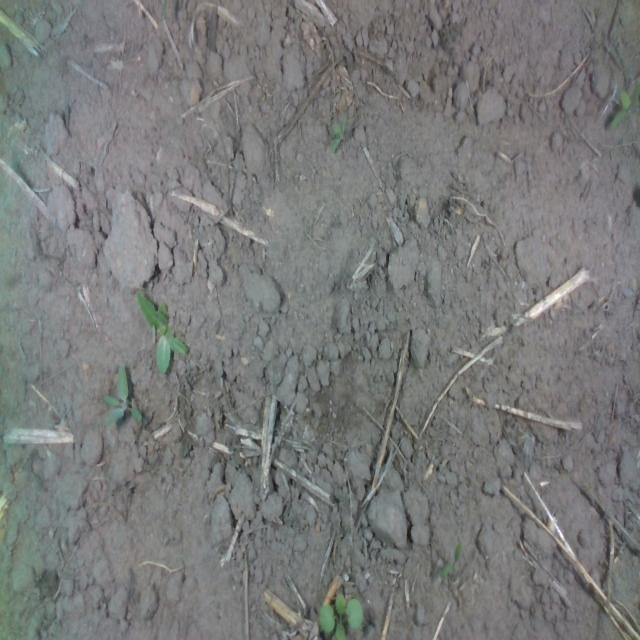weed: (135, 289, 189, 372), (101, 362, 142, 430), (439, 537, 462, 578), (328, 112, 347, 154)
